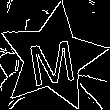M_N: (25, 29, 79, 86)
